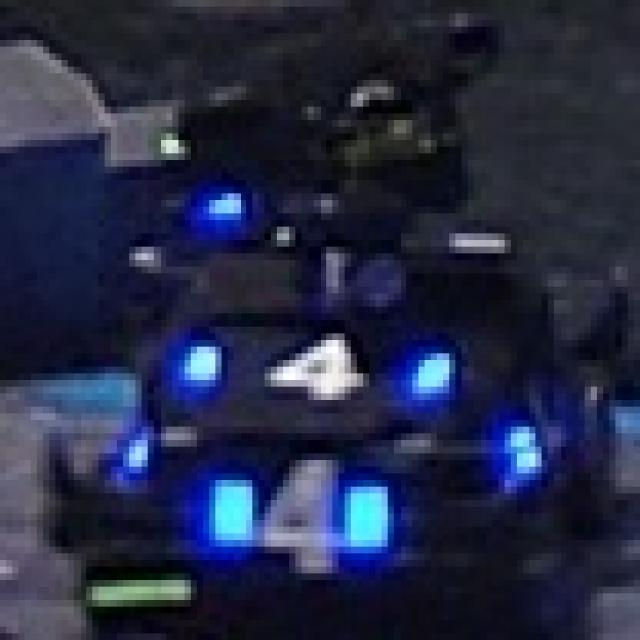B4: (154, 314, 461, 414), (209, 447, 400, 580)
